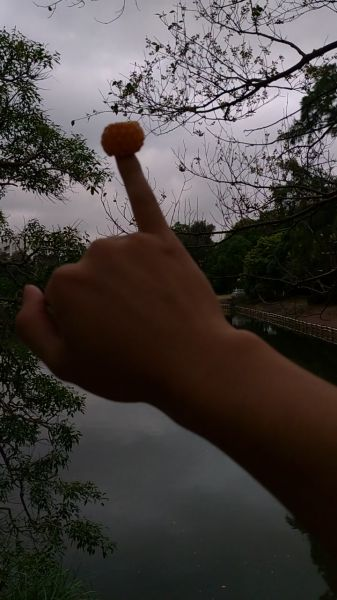eggs: (99, 122, 145, 155)
